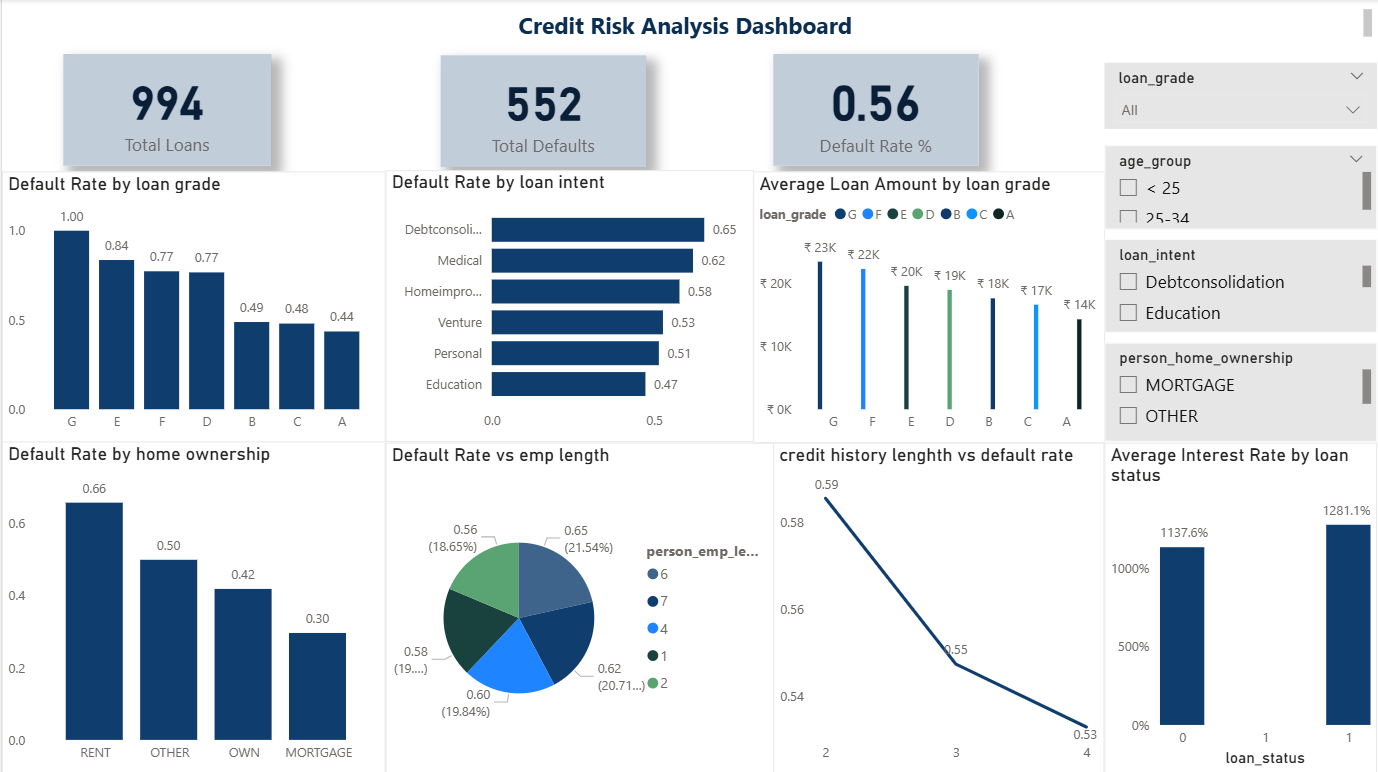

The dashboard page shown, as its layout file describes it:
{"tool":"powerbi","page":{"name":"CREDIT RISK ANALYSIS_dashboard","canvas":[1280,720],"ordinal":0},"visuals":[{"type":"card","fields":{"Values":["Credit_risk_1.Total Loans"]},"box":[56.4,51.3,193.6,103.8],"z":0},{"type":"card","fields":{"Values":["Credit_risk_1.Total Defaults"]},"box":[407.7,52.6,191,103.8],"z":1000},{"type":"card","fields":{"Values":["Credit_risk_1.Default Rate %"]},"box":[717.9,51.3,191,103.8],"z":2000},{"type":"clusteredColumnChart","title":"Default Rate  by loan grade","fields":{"Category":["Credit_risk_1.loan_grade"],"Y":["Credit_risk_1.Default Rate %"]},"box":[0,160.3,356.4,252.6],"z":3000},{"type":"clusteredBarChart","title":"Default Rate by loan intent","fields":{"Y":["Credit_risk_1.Default Rate %"],"Category":["Credit_risk_1.loan_intent"]},"box":[356.4,159,342.3,252.6],"z":4000},{"type":"clusteredColumnChart","title":"Average Loan Amount by loan grade","fields":{"Category":["Credit_risk_1.loan_grade"],"Y":["Credit_risk_1.Average Loan Amount"],"Series":["Credit_risk_1.loan_grade"]},"box":[698.7,160.3,326.9,252.6],"z":5000},{"type":"clusteredColumnChart","title":"Default Rate by home ownership","fields":{"Category":["Credit_risk_1.person_home_ownership"],"Y":["Credit_risk_1.Default Rate %"]},"box":[0,411.5,356.4,309],"z":6000},{"type":"pieChart","title":"Default Rate vs emp length","fields":{"Category":["Credit_risk_1.person_emp_length"],"Y":["Credit_risk_1.Default Rate %"]},"box":[356.4,412.8,361.5,307.7],"z":7000},{"type":"lineChart","title":"credit history lenghth vs default rate","fields":{"Category":["Credit_risk_1.cb_person_cred_hist_length"],"Y":["Credit_risk_1.Default Rate %"]},"box":[717.9,412.8,307.7,307.7],"z":8000},{"type":"clusteredColumnChart","title":"Average Interest Rate by loan status","fields":{"Category":["Credit_risk_1.loan_status"],"Y":["Credit_risk_1.Average Interest Rate"]},"box":[1025.6,412.8,253.8,307.7],"z":9000},{"type":"slicer","fields":{"Values":["Credit_risk_1.loan_grade"]},"box":[1025.6,59,253.8,61.5],"z":10000},{"type":"slicer","fields":{"Values":["Credit_risk_1.loan_intent"]},"box":[1025.6,223.1,253.8,87.2],"z":11000},{"type":"slicer","fields":{"Values":["Credit_risk_1.person_home_ownership"]},"box":[1025.6,319.2,253.8,92.3],"z":12000},{"type":"slicer","fields":{"Values":["Credit_risk_1.age_group"]},"box":[1025.6,135.9,253.8,78.2],"z":13000},{"type":"textbox","box":[0,5.1,1279.5,37.2],"z":14000}]}

Visuals, with their boxes in screenshot pixels (x1, y1, x2, y2), scaled from the page's 1280x720 canvas onto the 1378x772 screenshot:
card - Credit_risk_1.Total Loans: 61/55/269/166
card - Credit_risk_1.Total Defaults: 439/56/645/168
card - Credit_risk_1.Default Rate %: 773/55/978/166
"Default Rate  by loan grade" clusteredColumnChart: 0/172/384/443
"Default Rate by loan intent" clusteredBarChart: 384/170/752/441
"Average Loan Amount by loan grade" clusteredColumnChart: 752/172/1104/443
"Default Rate by home ownership" clusteredColumnChart: 0/441/384/771
"Default Rate vs emp length" pieChart: 384/443/773/771
"credit history lenghth vs default rate" lineChart: 773/443/1104/771
"Average Interest Rate by loan status" clusteredColumnChart: 1104/443/1377/771
slicer - Credit_risk_1.loan_grade: 1104/63/1377/129
slicer - Credit_risk_1.loan_intent: 1104/239/1377/333
slicer - Credit_risk_1.person_home_ownership: 1104/342/1377/441
slicer - Credit_risk_1.age_group: 1104/146/1377/230
textbox: 0/5/1377/45
